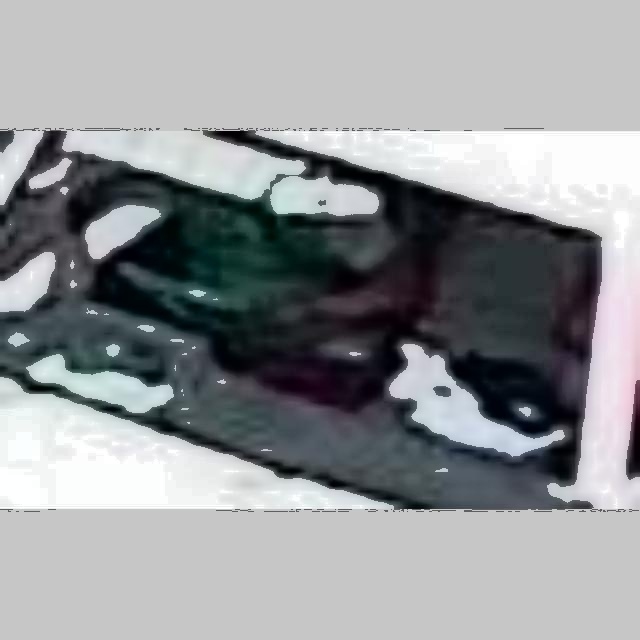tidak-pakai: (138, 193, 378, 372)
